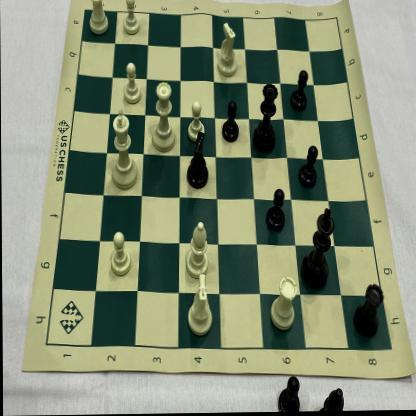black-king: (300, 208, 337, 292)
black-knight: (183, 132, 211, 191)
black-pawn: (295, 144, 320, 192), (288, 69, 310, 117), (265, 187, 286, 234), (221, 99, 240, 143)
black-queen: (252, 82, 280, 157)
black-rook: (351, 282, 385, 341)
white-bishop: (185, 220, 208, 281)
white-king: (109, 105, 139, 193)
white-knight: (185, 273, 214, 339), (215, 21, 239, 79)
white-pawn: (107, 230, 133, 278), (121, 61, 143, 107), (186, 100, 207, 144), (120, 0, 142, 38)
white-queen: (151, 78, 177, 155)
white-rook: (268, 274, 297, 334), (89, 0, 110, 39)
